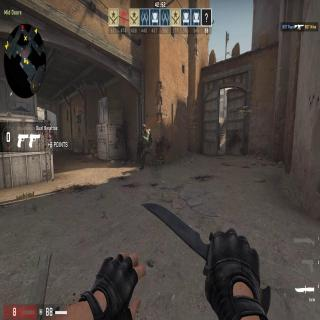CT-Body: (139, 124, 158, 172)
CT-Head: (141, 124, 147, 132)
